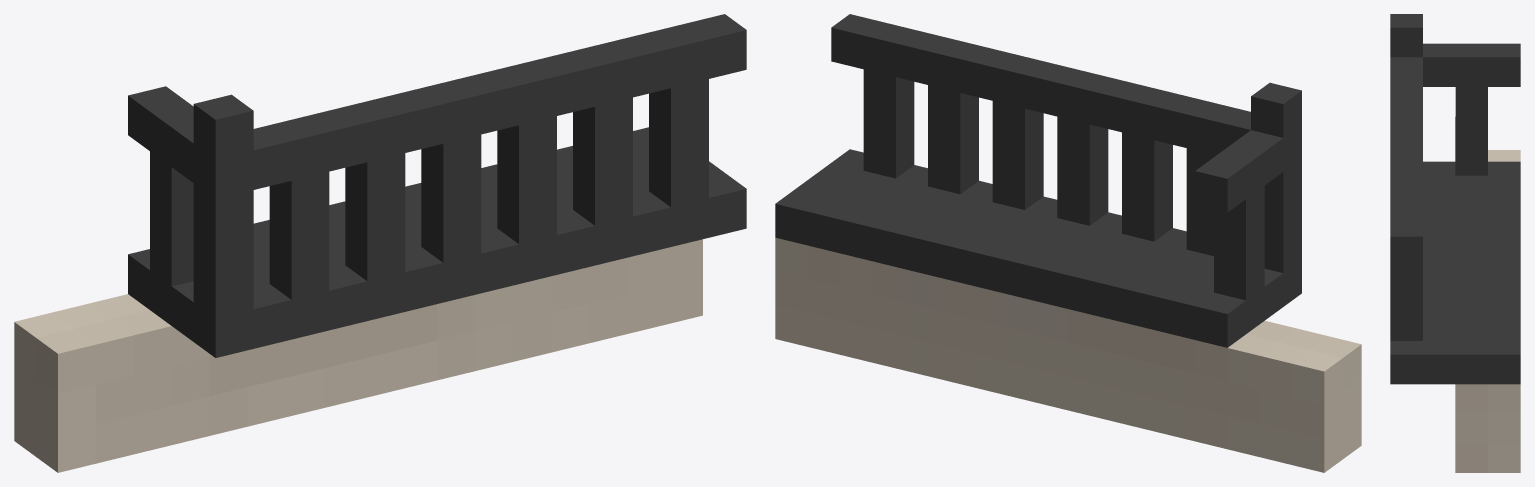
File: palazzo3.glb
3 renders of one model, left to right at view 1: azimuth 30°, elevation 25°; view 2: azimuth 150°, elevation 25°; view 3: azimuth 270°, elevation 25°, orthographic. The views are drawn at different scales.
Parts seen in each view (by area): view 1: Ringhiera.Marcapiano.Dx; view 2: Ringhiera.Marcapiano.Dx; view 3: Ringhiera.Marcapiano.Dx.
Boxes of the visible parts, bbox=[...] form: Ringhiera.Marcapiano.Dx: bbox=[14, 14, 746, 472]; Ringhiera.Marcapiano.Dx: bbox=[775, 14, 1361, 472]; Ringhiera.Marcapiano.Dx: bbox=[1390, 14, 1520, 472].
Size of the model in its own units: 17 by 9 by 4.
Materials: 2 (2 with a texture image).
